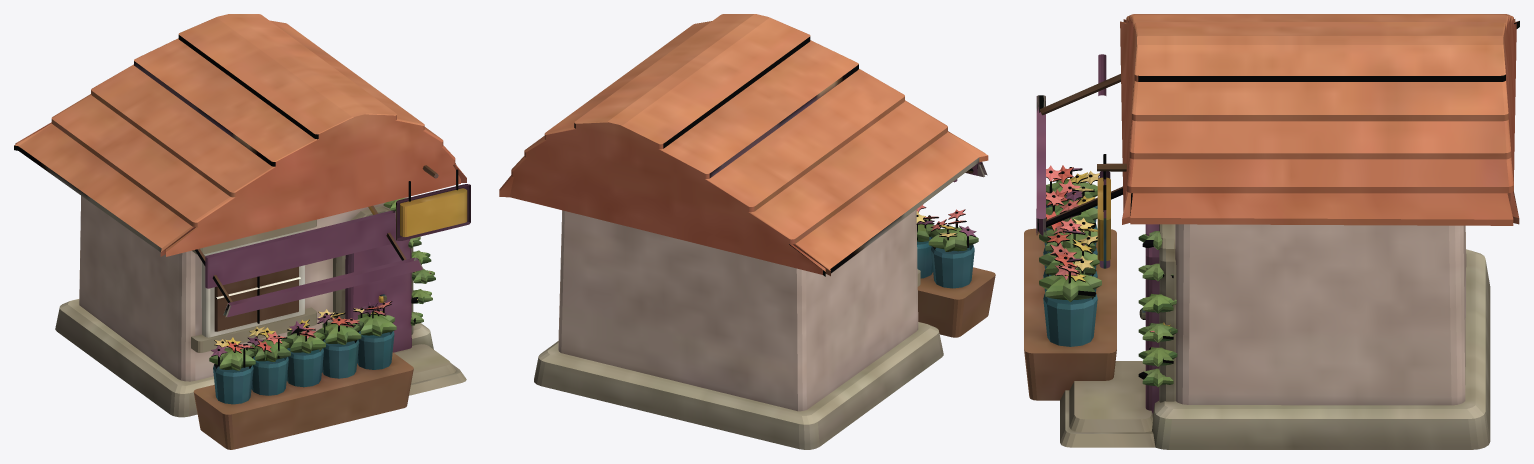
File: flower_shop.glb
The picture shows the model from 3 angles, left to right: view 1: azimuth 30°, elevation 25°; view 2: azimuth 150°, elevation 25°; view 3: azimuth 270°, elevation 25°; orthographic projection. The views are drawn at different scales.
Visible parts, largest first — view 1: FlowerShop; view 2: FlowerShop; view 3: FlowerShop.
Part boxes in pixels (<box>): FlowerShop: <box>14,14,470,449</box>; FlowerShop: <box>499,14,995,449</box>; FlowerShop: <box>1024,14,1519,449</box>.
Bounding box in the file's own units: 3.58 × 2.94 × 3.73.
Materials: 1 (1 with a texture image).
